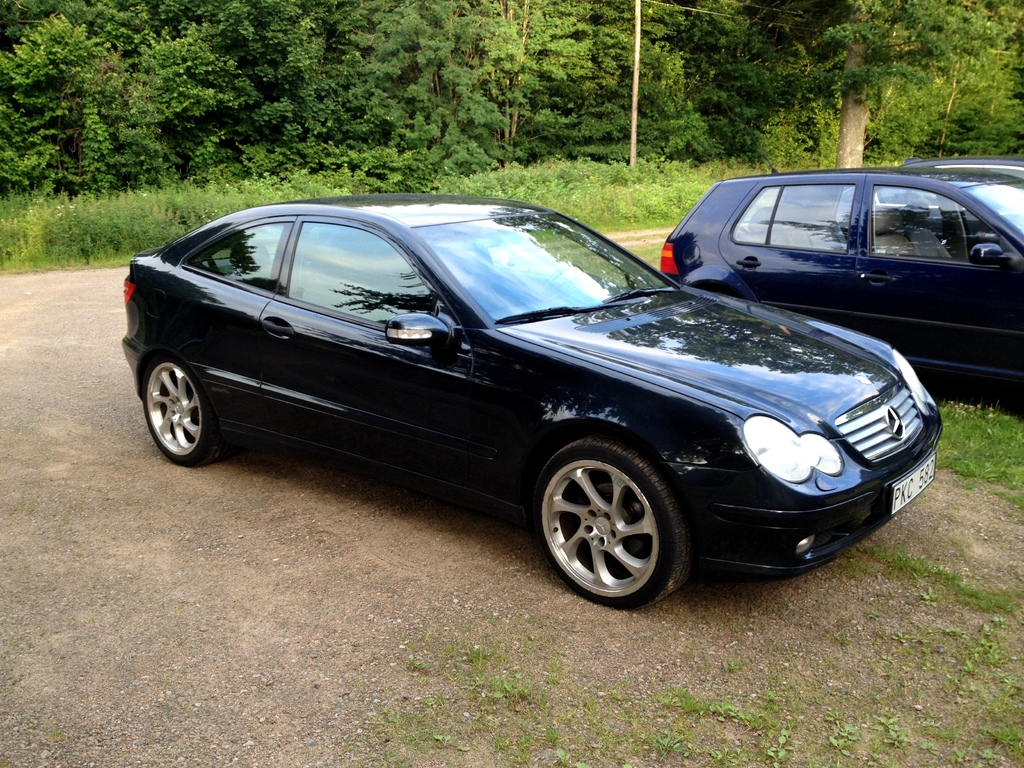Car: (121, 193, 942, 610), (658, 167, 1024, 383), (751, 157, 1024, 258)
